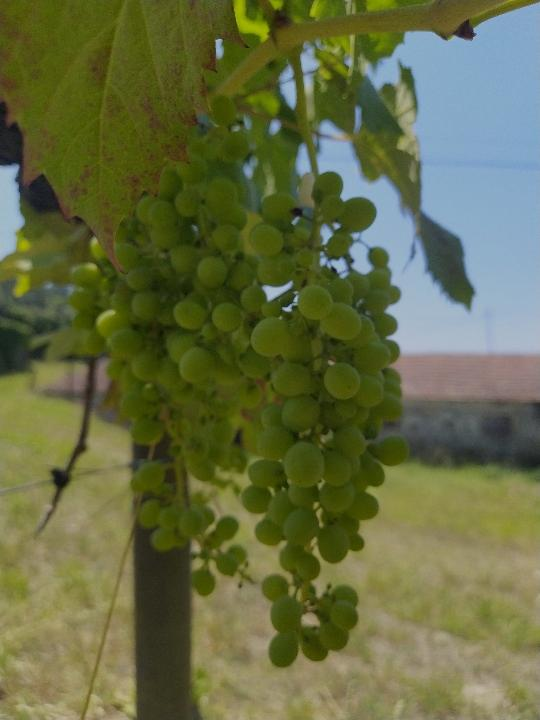grape: (68, 92, 261, 597), (247, 170, 412, 671)
